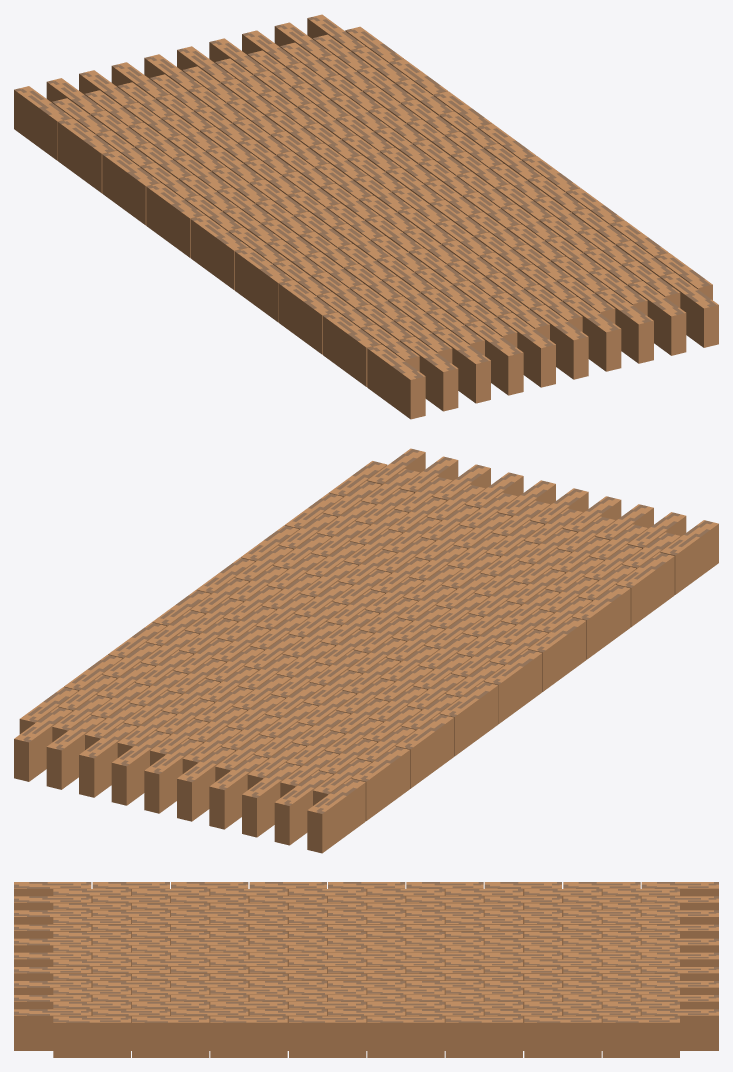
File: legno fbx.fbx
3 views of the same model, one above another, from view 1: azimuth 30°, elevation 25°; view 2: azimuth 150°, elevation 25°; view 3: azimuth 270°, elevation 25° (orthographic). The views are drawn at different scales.
Visible parts, largest first — view 1: asse1.001; view 2: asse1.001; view 3: asse1.001.
Part boxes in pixels (left/top/right/bottom): asse1.001: left=14, top=14, right=718, bottom=419; asse1.001: left=14, top=448, right=718, bottom=853; asse1.001: left=14, top=882, right=718, bottom=1057.
Size of the model in its own units: 861 by 100 by 1823.
